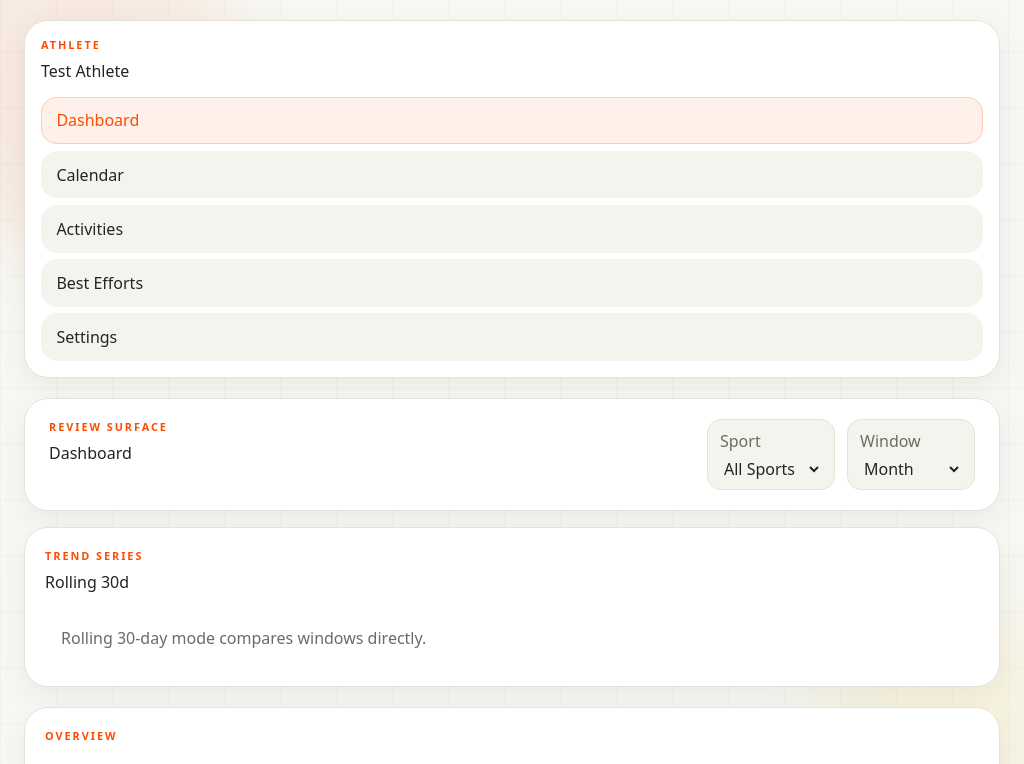
Test: App › hides the broken 30 day window and labels weekly comparison selectors by week within the month
This screenshot has width=1024, height=764.
Select "Week" in the dropdown labelled "Window" at (911, 469), box [860,457,962,481]
(page scrolled)
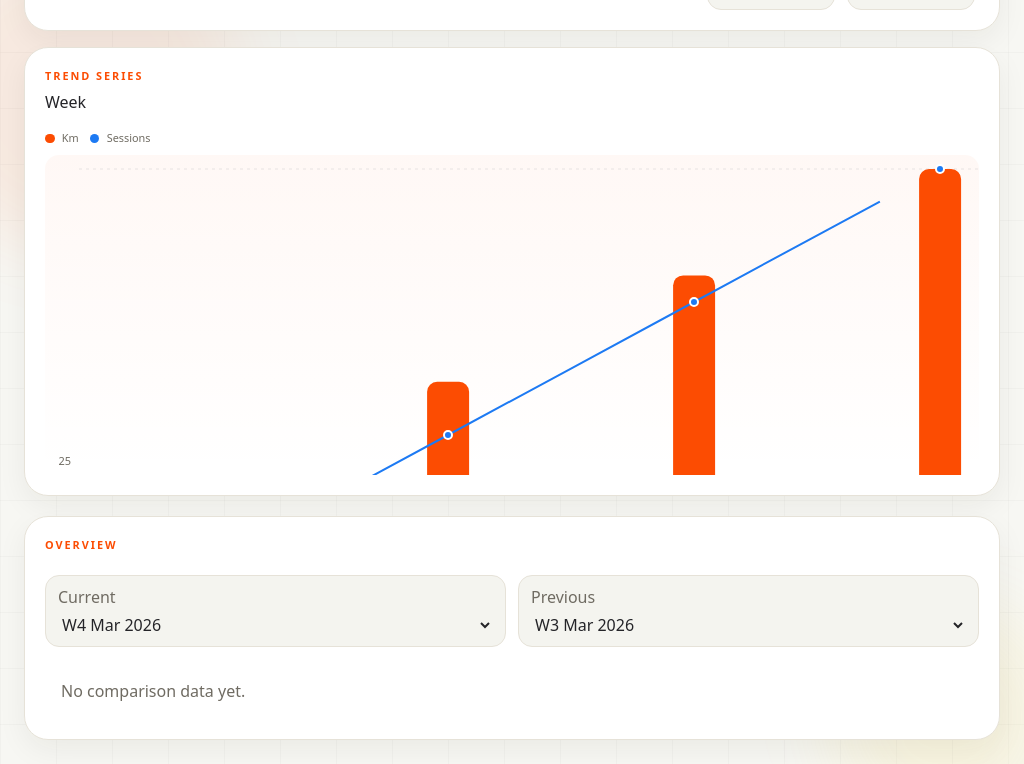
Expected: the dropdown showing "W4 Mar 2026" is shown, [58,613,493,637]
Expected: the dropdown showing "W3 Mar 2026" is shown, [531,613,966,637]
